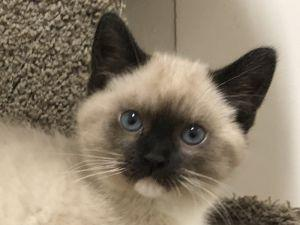siamese: (71, 5, 286, 218)
